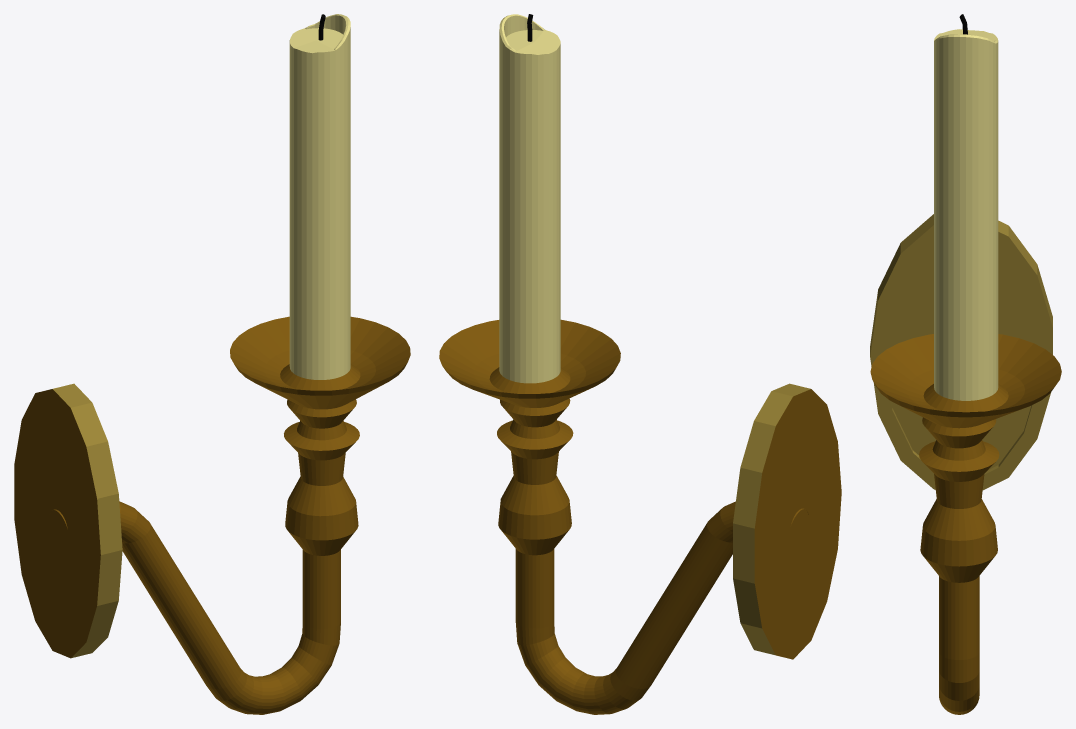
File: FancyWallCandle.fbx
3 views of the same model, side by side, from view 1: azimuth 30°, elevation 25°; view 2: azimuth 150°, elevation 25°; view 3: azimuth 270°, elevation 25° (orthographic). The views are drawn at different scales.
Parts seen in each view (by area): view 1: WallCandle; view 2: WallCandle; view 3: WallCandle.
Part boxes in pixels (x1=…): WallCandle: x1=14, y1=14, x2=410, y2=714; WallCandle: x1=439, y1=14, x2=841, y2=714; WallCandle: x1=870, y1=14, x2=1061, y2=714.
Size of the model in its own units: 197 by 373 by 90.02.
